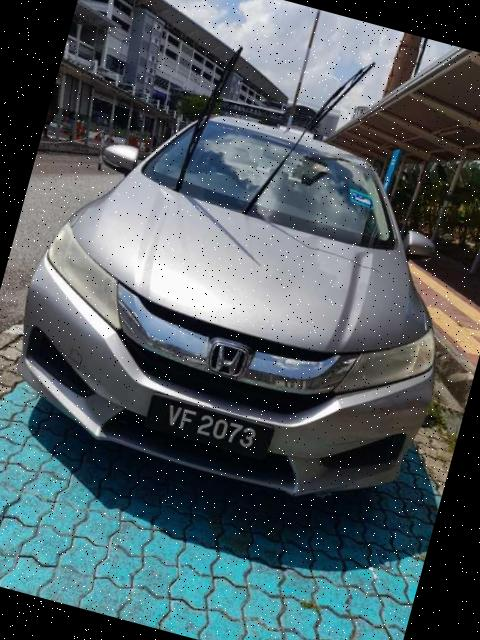License_Plate: (142, 393, 276, 464)
car: (1, 67, 480, 536)
